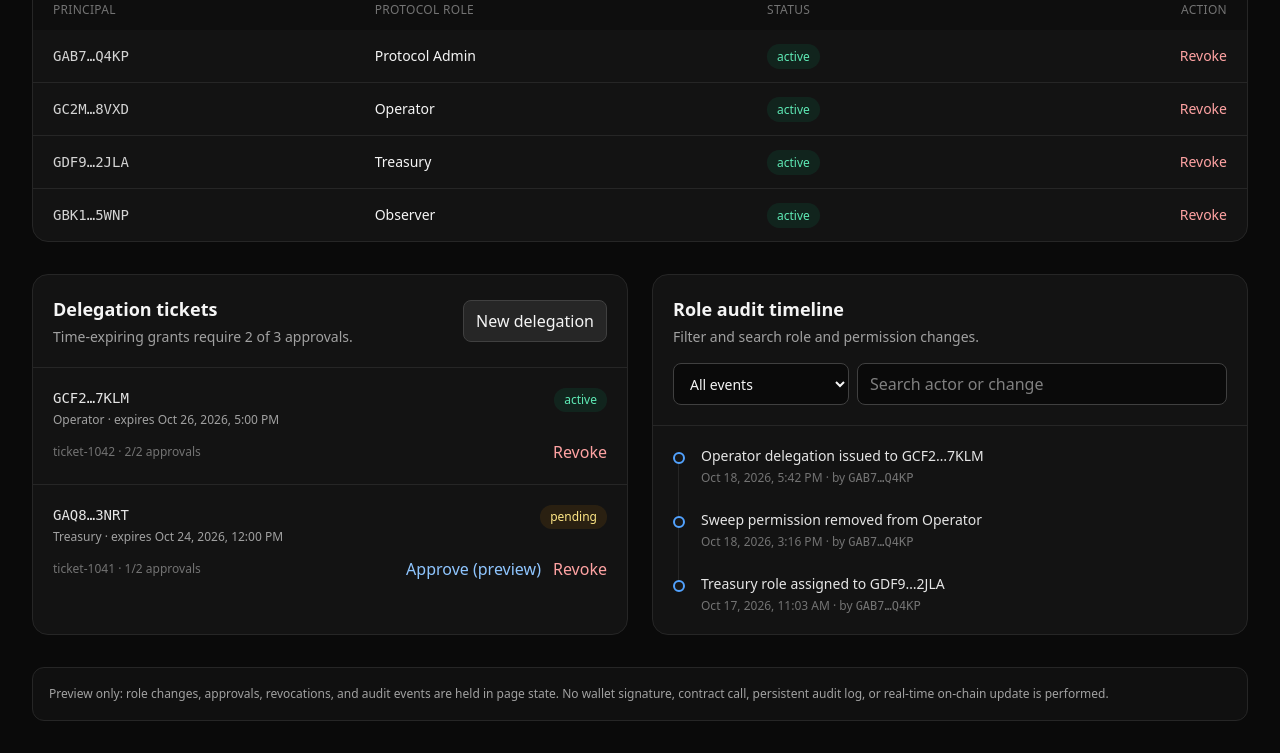
Test: RbacDashboard › filters the audit timeline by event type and search text
The width and height of the screenshot is (1280, 753).
(page scrolled)
Select "Assignments" in the dropdown named "Filter audit events" at (761, 384), box [673,363,849,405]
(page scrolled)
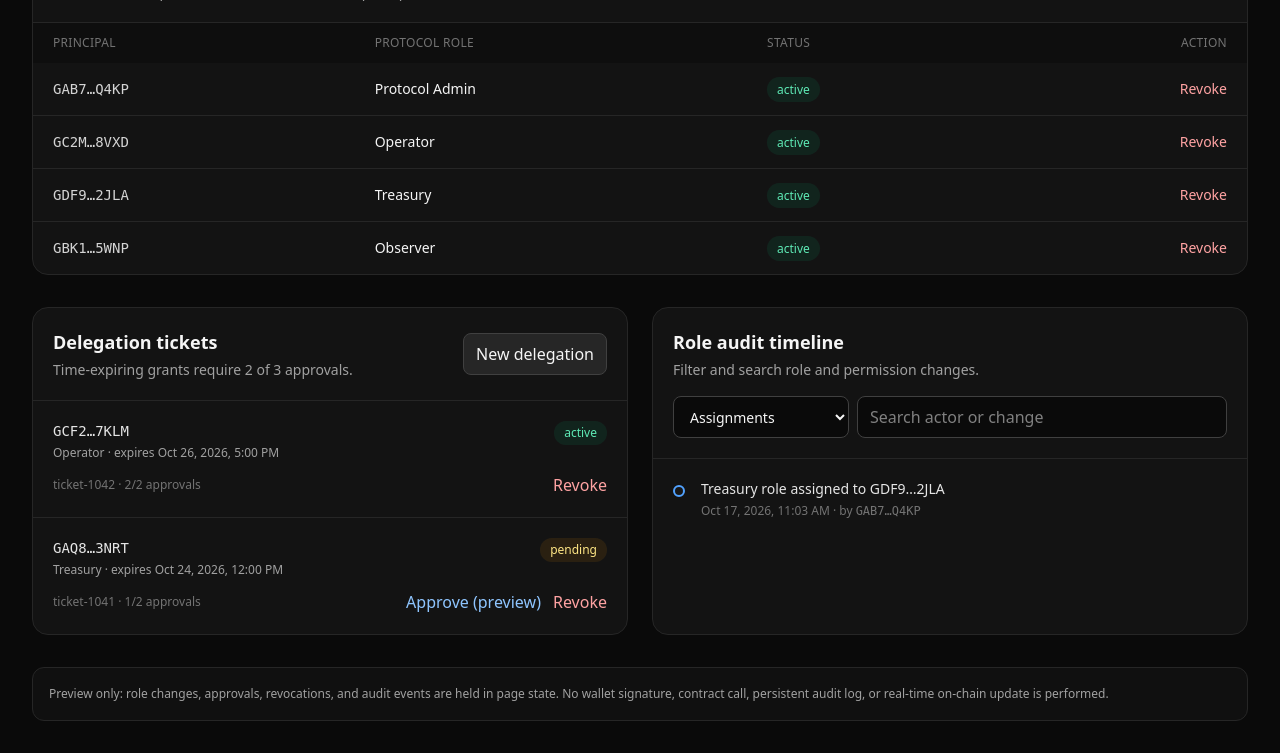
Expected: the text "Treasury role assigned to GDF9…2JLA" is shown, [701,479,945,499]
Expected: the text "Operator delegation issued to GCF2…7KLM" is gone
Type "not present" into the field named "Search audit timeline" at (1042, 417), box [857,396,1227,438]
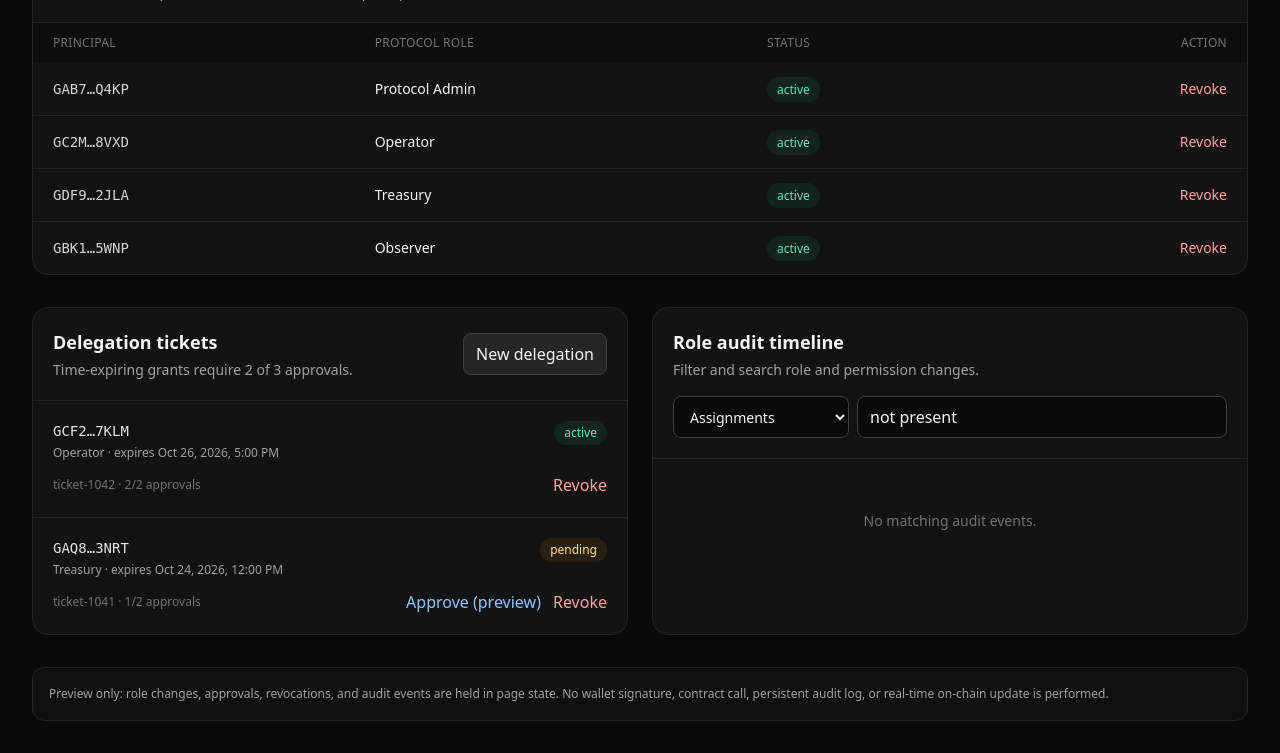
Expected: the list item "No matching audit events." is shown, [864,511,1036,530]
